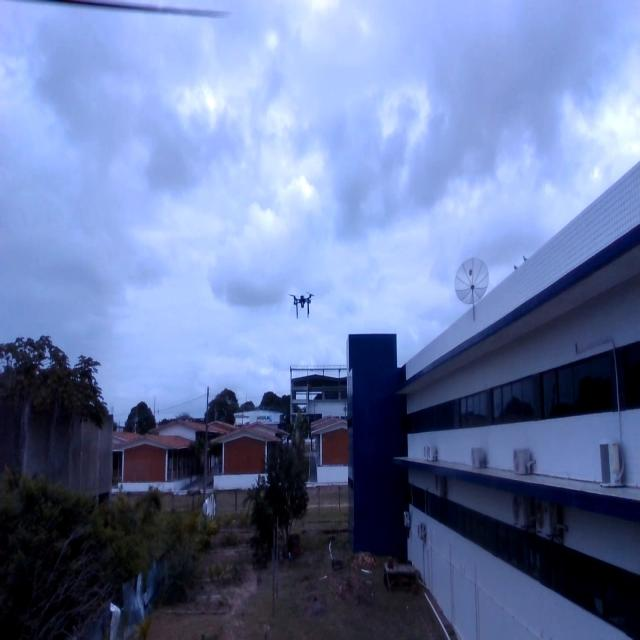-uav-: (288, 284, 316, 326)
